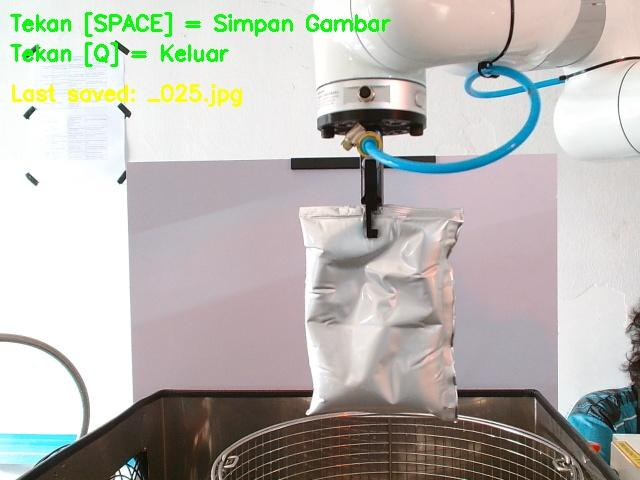retort-pouch: (295, 204, 461, 420)
